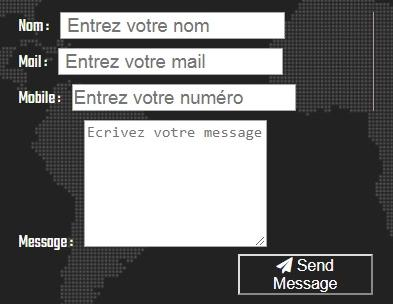button: (236, 253, 375, 296)
field: (81, 117, 269, 249), (70, 82, 297, 114), (55, 46, 285, 77), (58, 10, 287, 41)
field_with_label: (17, 117, 271, 252), (16, 79, 299, 116), (14, 9, 290, 42), (16, 45, 287, 78)
